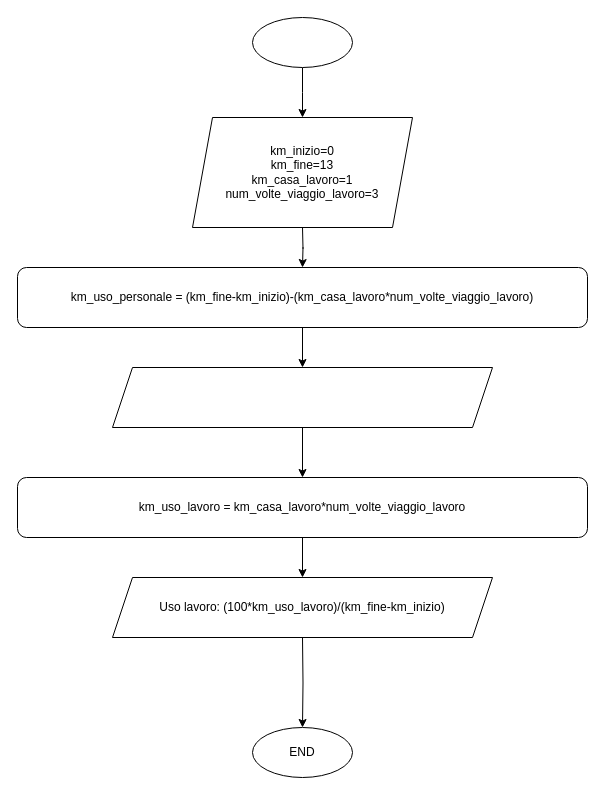
The diagram is 605 pixels wide and 795 high, and some of its shapes have lost their labels. Each missing label, with the centre of its shape:
START: (x=302, y=42)
Uso personale: (100*km_uso_personale)/(km_fine-km_inizio): (x=302, y=397)
